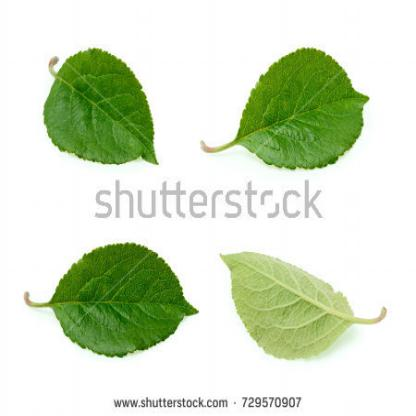Apple leaf: (214, 229, 398, 364), (213, 33, 378, 182), (43, 240, 203, 366), (35, 37, 170, 176)
